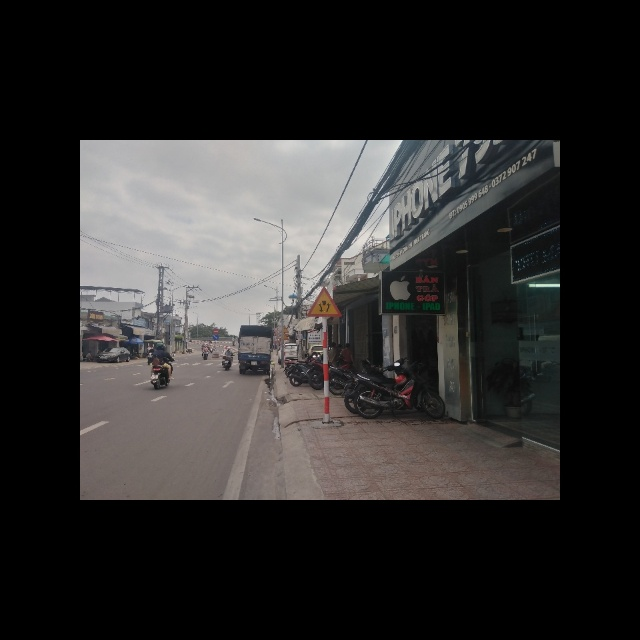Đường đôi: (306, 287, 341, 319)
